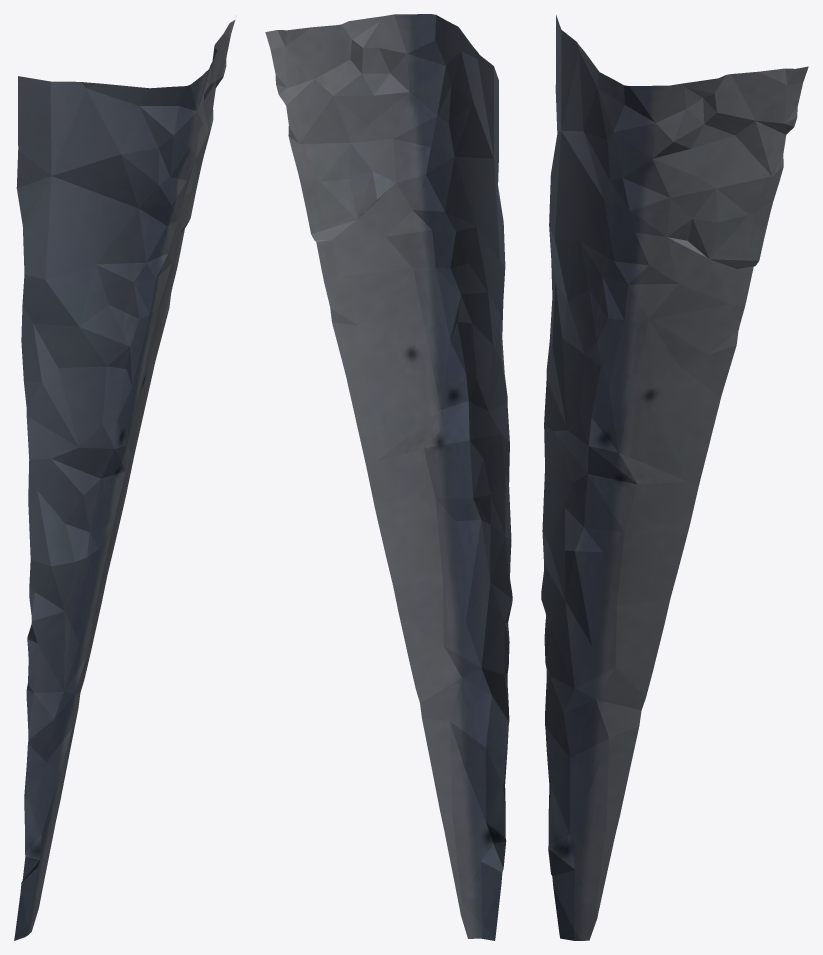
3 renders of one model, left to right at view 1: azimuth 30°, elevation 25°; view 2: azimuth 150°, elevation 25°; view 3: azimuth 330°, elevation 25°, orthographic. The views are drawn at different scales.
Bounding box in the file's own units: 0.2299 × 0.8374 × 0.1071.
Materials: 1 (1 with a texture image).
